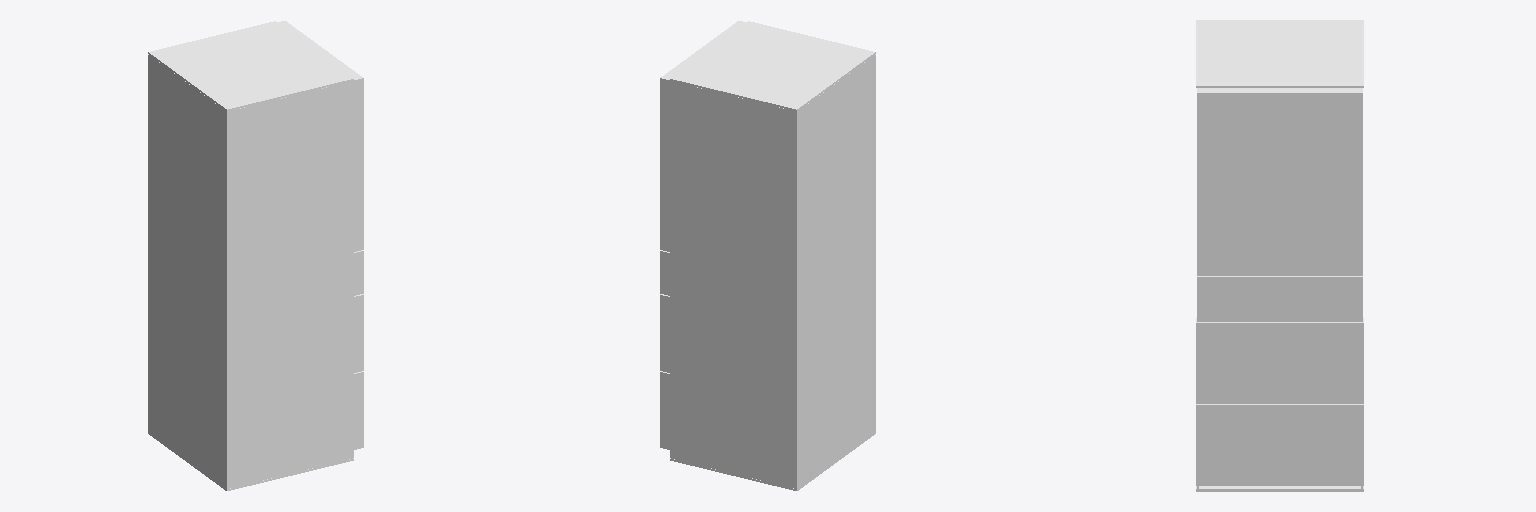
The robot description file, URDF, robot "room610-fridge":
<?xml version="1.0"?>
<robot name="room610-fridge"
       xmlns:xi="http://www.w3.org/2001/XInclude"
       >
  <gazebo>
    <static>false</static>
  </gazebo>
  <link name="ROOT_link">
    <visual>
      <origin xyz="0 0 0" rpy="0 -0 0"/>
      <geometry>
        <mesh filename="model://room610-fridge/meshes/ROOT_link_mesh.dae" scale="1 1 1" />
      </geometry>
    </visual>
    <collision>
      <origin xyz="0 0 0" rpy="0 -0 0"/>
      <geometry>
        <mesh filename="model://room610-fridge/meshes/ROOT_link_mesh.dae" scale="1 1 1" />
      </geometry>
    </collision>
    <inertial>
      <mass value="0.001" />
      <origin xyz="0 0 0" rpy="0 -0 0"/>
      <inertia ixx="1e-03" ixy="0" ixz="0" iyy="1e-03" iyz="0" izz="1e-03"/>
    </inertial>
  </link>
  <gazebo reference="ROOT_link">
    <mu1>0.9</mu1>
    <mu2>0.9</mu2>
  </gazebo>
  <link name="ROOM610-FRIDGE-BODYSET7_link">
    <visual>
      <origin xyz="0.319 0.317 1" rpy="0 -0 0"/>
      <geometry>
        <mesh filename="model://room610-fridge/meshes/ROOM610-FRIDGE-BODYSET7_link_mesh.dae" scale="1 1 1" />
      </geometry>
    </visual>
    <collision>
      <origin xyz="0.319 0.317 1" rpy="0 -0 0"/>
      <geometry>
        <mesh filename="model://room610-fridge/meshes/ROOM610-FRIDGE-BODYSET7_link_mesh.dae" scale="1 1 1" />
      </geometry>
    </collision>
    <inertial>
      <mass value="0.001" />
      <origin xyz="0 0 0" rpy="0 -0 0"/>
      <inertia ixx="1e-03" ixy="0" ixz="0" iyy="1e-03" iyz="0" izz="1e-03"/>
    </inertial>
  </link>
  <gazebo reference="ROOM610-FRIDGE-BODYSET7_link">
    <mu1>0.9</mu1>
    <mu2>0.9</mu2>
  </gazebo>
  <link name="ROOM610-FRIDGE-BODYSET6_link">
    <visual>
      <origin xyz="0.319 -0.317 1" rpy="0 -0 0"/>
      <geometry>
        <mesh filename="model://room610-fridge/meshes/ROOM610-FRIDGE-BODYSET6_link_mesh.dae" scale="1 1 1" />
      </geometry>
    </visual>
    <collision>
      <origin xyz="0.319 -0.317 1" rpy="0 -0 0"/>
      <geometry>
        <mesh filename="model://room610-fridge/meshes/ROOM610-FRIDGE-BODYSET6_link_mesh.dae" scale="1 1 1" />
      </geometry>
    </collision>
    <inertial>
      <mass value="0.001" />
      <origin xyz="0 0 0" rpy="0 -0 0"/>
      <inertia ixx="1e-03" ixy="0" ixz="0" iyy="1e-03" iyz="0" izz="1e-03"/>
    </inertial>
  </link>
  <gazebo reference="ROOM610-FRIDGE-BODYSET6_link">
    <mu1>0.9</mu1>
    <mu2>0.9</mu2>
  </gazebo>
  <link name="ROOM610-FRIDGE-BODYSET3_link">
    <visual>
      <origin xyz="0 0 0.577" rpy="0 -0 0"/>
      <geometry>
        <mesh filename="model://room610-fridge/meshes/ROOM610-FRIDGE-BODYSET3_link_mesh.dae" scale="1 1 1" />
      </geometry>
    </visual>
    <collision>
      <origin xyz="0 0 0.577" rpy="0 -0 0"/>
      <geometry>
        <mesh filename="model://room610-fridge/meshes/ROOM610-FRIDGE-BODYSET3_link_mesh.dae" scale="1 1 1" />
      </geometry>
    </collision>
    <inertial>
      <mass value="0.001" />
      <origin xyz="0 0 0" rpy="0 -0 0"/>
      <inertia ixx="1e-03" ixy="0" ixz="0" iyy="1e-03" iyz="0" izz="1e-03"/>
    </inertial>
  </link>
  <gazebo reference="ROOM610-FRIDGE-BODYSET3_link">
    <mu1>0.9</mu1>
    <mu2>0.9</mu2>
  </gazebo>
  <link name="ROOM610-FRIDGE-BODYSET2_link">
    <visual>
      <origin xyz="0 0 0.207" rpy="0 -0 0"/>
      <geometry>
        <mesh filename="model://room610-fridge/meshes/ROOM610-FRIDGE-BODYSET2_link_mesh.dae" scale="1 1 1" />
      </geometry>
    </visual>
    <collision>
      <origin xyz="0 0 0.207" rpy="0 -0 0"/>
      <geometry>
        <mesh filename="model://room610-fridge/meshes/ROOM610-FRIDGE-BODYSET2_link_mesh.dae" scale="1 1 1" />
      </geometry>
    </collision>
    <inertial>
      <mass value="0.001" />
      <origin xyz="0 0 0" rpy="0 -0 0"/>
      <inertia ixx="1e-03" ixy="0" ixz="0" iyy="1e-03" iyz="0" izz="1e-03"/>
    </inertial>
  </link>
  <gazebo reference="ROOM610-FRIDGE-BODYSET2_link">
    <mu1>0.9</mu1>
    <mu2>0.9</mu2>
  </gazebo>
  <link name="ROOM610-FRIDGE-BODYSET4_link">
    <visual>
      <origin xyz="4.54747e-16 0.171 0.867" rpy="0 -0 0"/>
      <geometry>
        <mesh filename="model://room610-fridge/meshes/ROOM610-FRIDGE-BODYSET4_link_mesh.dae" scale="1 1 1" />
      </geometry>
    </visual>
    <collision>
      <origin xyz="4.54747e-16 0.171 0.867" rpy="0 -0 0"/>
      <geometry>
        <mesh filename="model://room610-fridge/meshes/ROOM610-FRIDGE-BODYSET4_link_mesh.dae" scale="1 1 1" />
      </geometry>
    </collision>
    <inertial>
      <mass value="0.001" />
      <origin xyz="0 0 0" rpy="0 -0 0"/>
      <inertia ixx="1e-03" ixy="0" ixz="0" iyy="1e-03" iyz="0" izz="1e-03"/>
    </inertial>
  </link>
  <gazebo reference="ROOM610-FRIDGE-BODYSET4_link">
    <mu1>0.9</mu1>
    <mu2>0.9</mu2>
  </gazebo>
  <link name="ROOM610-FRIDGE-BODYSET5_link">
    <visual>
      <origin xyz="0 -0.171 0.867" rpy="0 -0 0"/>
      <geometry>
        <mesh filename="model://room610-fridge/meshes/ROOM610-FRIDGE-BODYSET5_link_mesh.dae" scale="1 1 1" />
      </geometry>
    </visual>
    <collision>
      <origin xyz="0 -0.171 0.867" rpy="0 -0 0"/>
      <geometry>
        <mesh filename="model://room610-fridge/meshes/ROOM610-FRIDGE-BODYSET5_link_mesh.dae" scale="1 1 1" />
      </geometry>
    </collision>
    <inertial>
      <mass value="0.001" />
      <origin xyz="0 0 0" rpy="0 -0 0"/>
      <inertia ixx="1e-03" ixy="0" ixz="0" iyy="1e-03" iyz="0" izz="1e-03"/>
    </inertial>
  </link>
  <gazebo reference="ROOM610-FRIDGE-BODYSET5_link">
    <mu1>0.9</mu1>
    <mu2>0.9</mu2>
  </gazebo>
  <joint name="DOOR-UPPER-LEFT" type="revolute">
    <parent link="ROOT_link"/>
    <child  link="ROOM610-FRIDGE-BODYSET7_link"/>
    <origin xyz="0.319 0.317 1" rpy="0 -0 0 "/>
    <axis   xyz="0 0 1"/>
    <limit lower="0" upper="1.5708" effort="100" velocity="0.5" />
    <dynamics damping="0.2" friction="0" />
  </joint>
  <transmission type="pr2_mechanism_model/SimpleTransmission" name="DOOR-UPPER-LEFT_trans" >
    <actuator name="DOOR-UPPER-LEFT_motor" />
    <joint name="DOOR-UPPER-LEFT" />
    <mechanicalReduction>1</mechanicalReduction>
  </transmission>
  <gazebo reference="DOOR-UPPER-LEFT">
    <cfmDamping>0.4</cfmDamping>
  </gazebo>
  <joint name="DOOR-UPPER-RIGHT" type="revolute">
    <parent link="ROOT_link"/>
    <child  link="ROOM610-FRIDGE-BODYSET6_link"/>
    <origin xyz="0.319 -0.317 1" rpy="0 -0 0 "/>
    <axis   xyz="0 0 -1"/>
    <limit lower="0" upper="1.5708" effort="100" velocity="0.5" />
    <dynamics damping="0.2" friction="0" />
  </joint>
  <transmission type="pr2_mechanism_model/SimpleTransmission" name="DOOR-UPPER-RIGHT_trans" >
    <actuator name="DOOR-UPPER-RIGHT_motor" />
    <joint name="DOOR-UPPER-RIGHT" />
    <mechanicalReduction>1</mechanicalReduction>
  </transmission>
  <gazebo reference="DOOR-UPPER-RIGHT">
    <cfmDamping>0.4</cfmDamping>
  </gazebo>
  <joint name="DRAWER-LOWER1" type="prismatic">
    <parent link="ROOT_link"/>
    <child  link="ROOM610-FRIDGE-BODYSET3_link"/>
    <origin xyz="0 0 0.577" rpy="0 -0 0 "/>
    <axis   xyz="1 0 0"/>
    <limit lower="0" upper="0.688" effort="100" velocity="0.01" />
    <dynamics damping="0.2" friction="0" />
  </joint>
  <transmission type="pr2_mechanism_model/SimpleTransmission" name="DRAWER-LOWER1_trans" >
    <actuator name="DRAWER-LOWER1_motor" />
    <joint name="DRAWER-LOWER1" />
    <mechanicalReduction>1</mechanicalReduction>
  </transmission>
  <gazebo reference="DRAWER-LOWER1">
    <cfmDamping>0.4</cfmDamping>
  </gazebo>
  <joint name="DRAWER-LOWER2" type="prismatic">
    <parent link="ROOT_link"/>
    <child  link="ROOM610-FRIDGE-BODYSET2_link"/>
    <origin xyz="0 0 0.207" rpy="0 -0 0 "/>
    <axis   xyz="1 0 0"/>
    <limit lower="0" upper="0.688" effort="100" velocity="0.01" />
    <dynamics damping="0.2" friction="0" />
  </joint>
  <transmission type="pr2_mechanism_model/SimpleTransmission" name="DRAWER-LOWER2_trans" >
    <actuator name="DRAWER-LOWER2_motor" />
    <joint name="DRAWER-LOWER2" />
    <mechanicalReduction>1</mechanicalReduction>
  </transmission>
  <gazebo reference="DRAWER-LOWER2">
    <cfmDamping>0.4</cfmDamping>
  </gazebo>
  <joint name="DRAWER-MIDDLE-LEFT" type="prismatic">
    <parent link="ROOT_link"/>
    <child  link="ROOM610-FRIDGE-BODYSET4_link"/>
    <origin xyz="4.54747e-16 0.171 0.867" rpy="0 -0 0 "/>
    <axis   xyz="1 0 0"/>
    <limit lower="0" upper="0.688" effort="100" velocity="0.01" />
    <dynamics damping="0.2" friction="0" />
  </joint>
  <transmission type="pr2_mechanism_model/SimpleTransmission" name="DRAWER-MIDDLE-LEFT_trans" >
    <actuator name="DRAWER-MIDDLE-LEFT_motor" />
    <joint name="DRAWER-MIDDLE-LEFT" />
    <mechanicalReduction>1</mechanicalReduction>
  </transmission>
  <gazebo reference="DRAWER-MIDDLE-LEFT">
    <cfmDamping>0.4</cfmDamping>
  </gazebo>
  <joint name="DRAWER-MIDDLE-RIGHT" type="prismatic">
    <parent link="ROOT_link"/>
    <child  link="ROOM610-FRIDGE-BODYSET5_link"/>
    <origin xyz="0 -0.171 0.867" rpy="0 -0 0 "/>
    <axis   xyz="1 0 0"/>
    <limit lower="0" upper="0.688" effort="100" velocity="0.01" />
    <dynamics damping="0.2" friction="0" />
  </joint>
  <transmission type="pr2_mechanism_model/SimpleTransmission" name="DRAWER-MIDDLE-RIGHT_trans" >
    <actuator name="DRAWER-MIDDLE-RIGHT_motor" />
    <joint name="DRAWER-MIDDLE-RIGHT" />
    <mechanicalReduction>1</mechanicalReduction>
  </transmission>
  <gazebo reference="DRAWER-MIDDLE-RIGHT">
    <cfmDamping>0.4</cfmDamping>
  </gazebo>
</robot>

--- Facts derived from the render (not from the file) ---
Views: 3 orthographic renders of the robot side by side, from view 1: azimuth 30°, elevation 25°; view 2: azimuth 150°, elevation 25°; view 3: azimuth 270°, elevation 25°.
Robot: room610-fridge — 7 links, 6 joints (2 revolute, 4 prismatic); root link ROOT_link; default pose: every joint at zero.
Visible links, largest first — view 1: ROOT_link, ROOM610-FRIDGE-BODYSET6_link, ROOM610-FRIDGE-BODYSET3_link, ROOM610-FRIDGE-BODYSET2_link; view 2: ROOT_link, ROOM610-FRIDGE-BODYSET7_link, ROOM610-FRIDGE-BODYSET3_link, ROOM610-FRIDGE-BODYSET2_link; view 3: ROOM610-FRIDGE-BODYSET7_link, ROOM610-FRIDGE-BODYSET6_link, ROOM610-FRIDGE-BODYSET3_link, ROOM610-FRIDGE-BODYSET2_link, ROOT_link, ROOM610-FRIDGE-BODYSET4_link, ROOM610-FRIDGE-BODYSET5_link.
Link boxes in pixels (box(x1,y1,x2,y2)): ROOT_link: box(148, 21, 353, 490); ROOM610-FRIDGE-BODYSET6_link: box(317, 49, 363, 251); ROOM610-FRIDGE-BODYSET3_link: box(354, 294, 363, 372); ROOM610-FRIDGE-BODYSET2_link: box(354, 371, 363, 449); ROOT_link: box(670, 21, 875, 490); ROOM610-FRIDGE-BODYSET7_link: box(660, 49, 706, 251); ROOM610-FRIDGE-BODYSET3_link: box(660, 294, 669, 372); ROOM610-FRIDGE-BODYSET2_link: box(660, 371, 669, 449); ROOM610-FRIDGE-BODYSET7_link: box(1280, 88, 1362, 275); ROOM610-FRIDGE-BODYSET6_link: box(1197, 88, 1279, 275); ROOM610-FRIDGE-BODYSET3_link: box(1196, 318, 1363, 403); ROOM610-FRIDGE-BODYSET2_link: box(1196, 404, 1363, 485); ROOT_link: box(1196, 20, 1363, 491); ROOM610-FRIDGE-BODYSET4_link: box(1280, 276, 1362, 321); ROOM610-FRIDGE-BODYSET5_link: box(1197, 276, 1279, 321).
Size in the robot's own frame: 0.688 by 0.685 by 1.83 metres.
7 mesh visuals loaded from 7 distinct referenced files (7 Collada DAE).